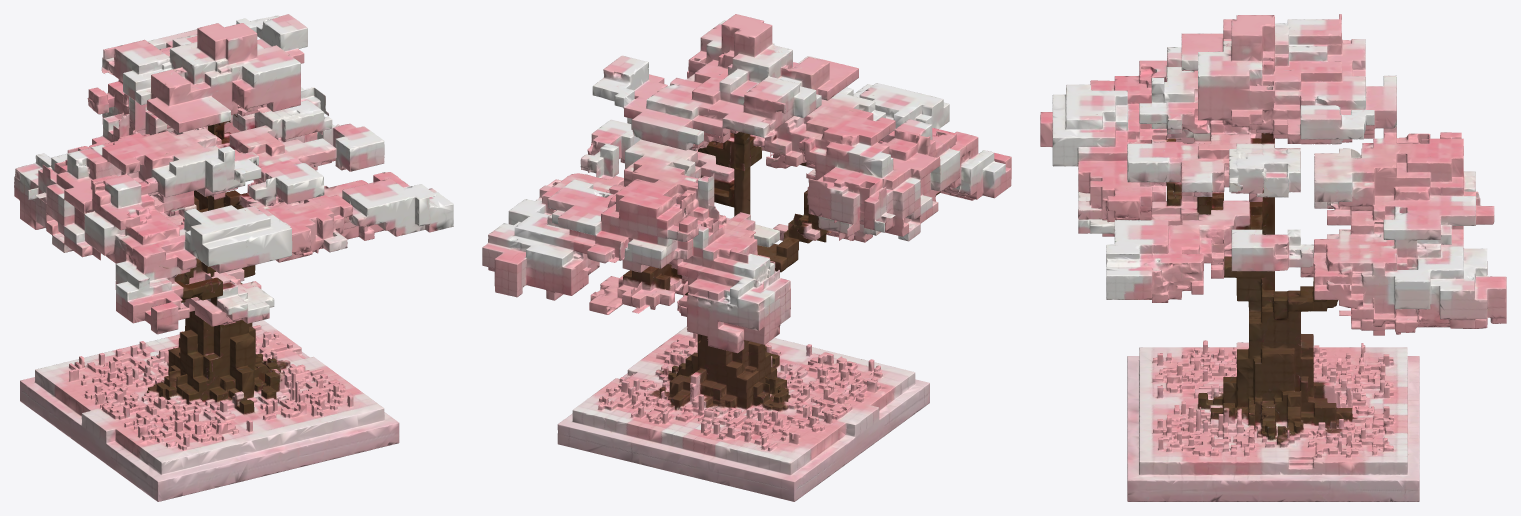
File: sakura-voxel-opt-v2.glb
3 views of the same model, side by side, from view 1: azimuth 30°, elevation 25°; view 2: azimuth 150°, elevation 25°; view 3: azimuth 270°, elevation 25° (orthographic). The views are drawn at different scales.
Parts seen in each view (by area): view 1: Mesh_0; view 2: Mesh_0; view 3: Mesh_0.
Boxes of the visible parts, left/top/right/bottom form: Mesh_0: left=14, top=14, right=453, bottom=501; Mesh_0: left=482, top=14, right=1011, bottom=501; Mesh_0: left=1040, top=14, right=1506, bottom=501.
Bounding box in the file's own units: 1.35 × 1.5 × 1.51.
Materials: 1 (1 with a texture image).
